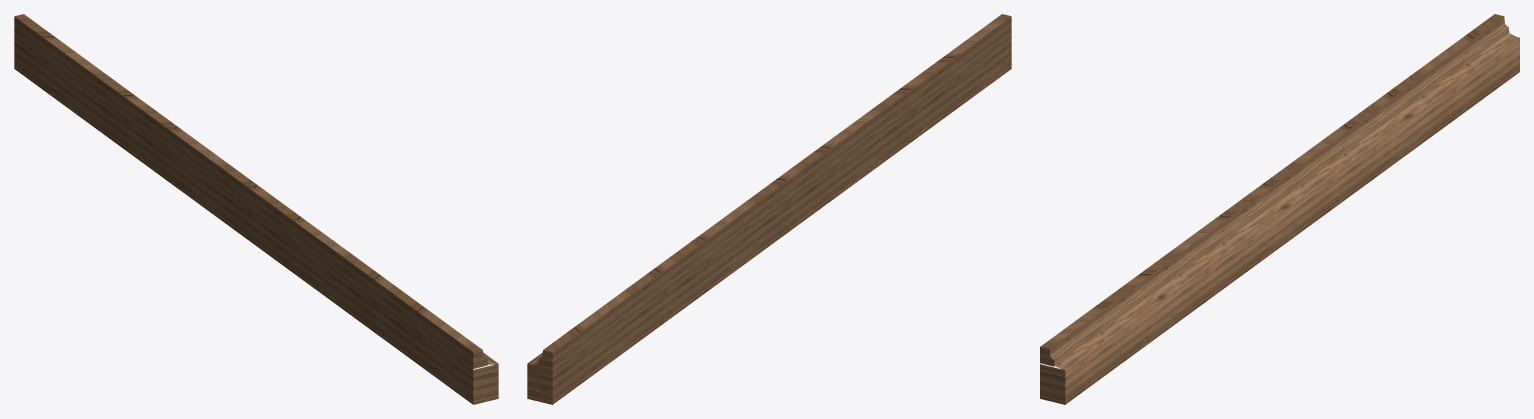
File: souptrim003.glb
The picture shows the model from 3 angles, left to right: view 1: azimuth 30°, elevation 25°; view 2: azimuth 150°, elevation 25°; view 3: azimuth 330°, elevation 25°; orthographic projection.
Visible parts, largest first — view 1: souptrim003_high_1; view 2: souptrim003_high_1; view 3: souptrim003_high_1.
Part boxes in pixels (x1,y1,x2,y2): souptrim003_high_1: [14, 14, 498, 404]; souptrim003_high_1: [527, 14, 1011, 404]; souptrim003_high_1: [1040, 14, 1519, 404].
Size of the model in its own units: 0.0861 by 0.1712 by 2.71.
1 material, 1 textured.
